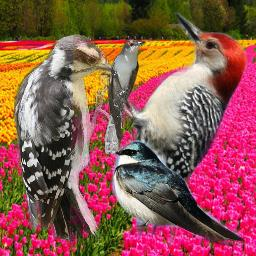Cuckoo: (103, 38, 146, 154)
Swallow: (111, 140, 246, 246)
Woodpecker: (91, 8, 254, 247), (14, 34, 122, 245)
